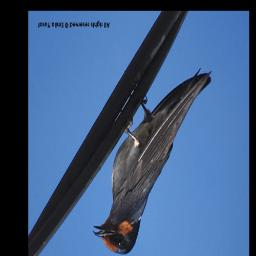Swallow: (93, 72, 213, 255)
